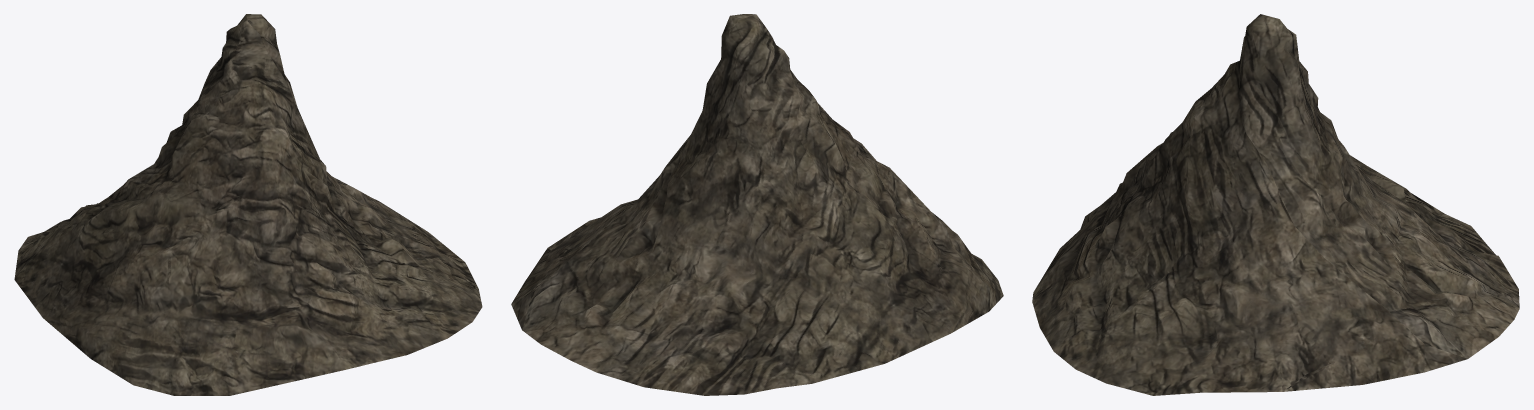
Rendered from MEP_C_Stalagmite_05_N.fbx.
The picture shows the model from 3 angles, left to right: view 1: azimuth 30°, elevation 25°; view 2: azimuth 150°, elevation 25°; view 3: azimuth 270°, elevation 25°; orthographic projection. The views are drawn at different scales.
Parts seen in each view (by area): view 1: MEP_C_Stalagmite_05; view 2: MEP_C_Stalagmite_05; view 3: MEP_C_Stalagmite_05.
Boxes of the visible parts, left/top/right/bottom form: MEP_C_Stalagmite_05: left=14, top=14, right=482, bottom=395; MEP_C_Stalagmite_05: left=511, top=14, right=1003, bottom=395; MEP_C_Stalagmite_05: left=1032, top=14, right=1519, bottom=395.
Size of what is drawn, in the model's own units: 276 by 189 by 285.
Materials: 1 (1 with a texture image).
